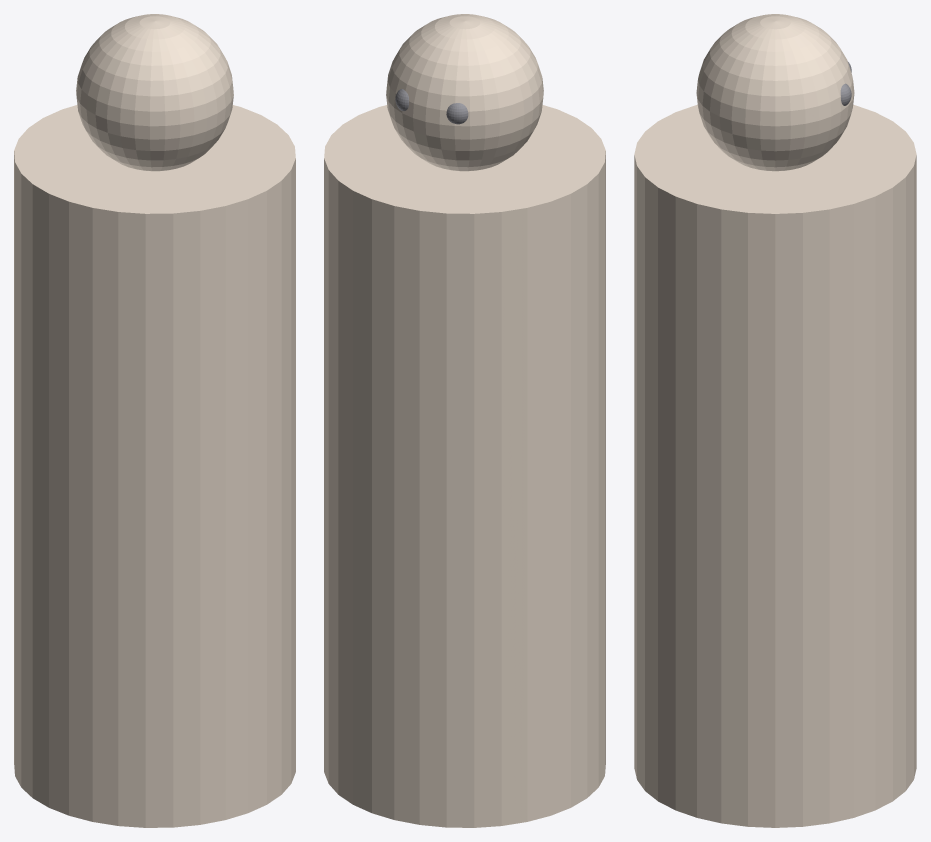
The model's file is observer.glb.
3 renders of one model, left to right at view 1: azimuth 30°, elevation 25°; view 2: azimuth 150°, elevation 25°; view 3: azimuth 270°, elevation 25°, orthographic.
Parts seen in each view (by area): view 1: Observer_Body, Observer_Head; view 2: Observer_Body, Observer_Head; view 3: Observer_Body, Observer_Head.
Boxes of the visible parts, x1,y1,x2,y2 form: Observer_Body: (14, 105, 295, 827); Observer_Head: (76, 14, 233, 171); Observer_Body: (324, 105, 605, 827); Observer_Head: (386, 14, 543, 171); Observer_Body: (634, 104, 916, 827); Observer_Head: (696, 14, 854, 171).
Size of the model in its own units: 0.5 by 1.46 by 0.5.
